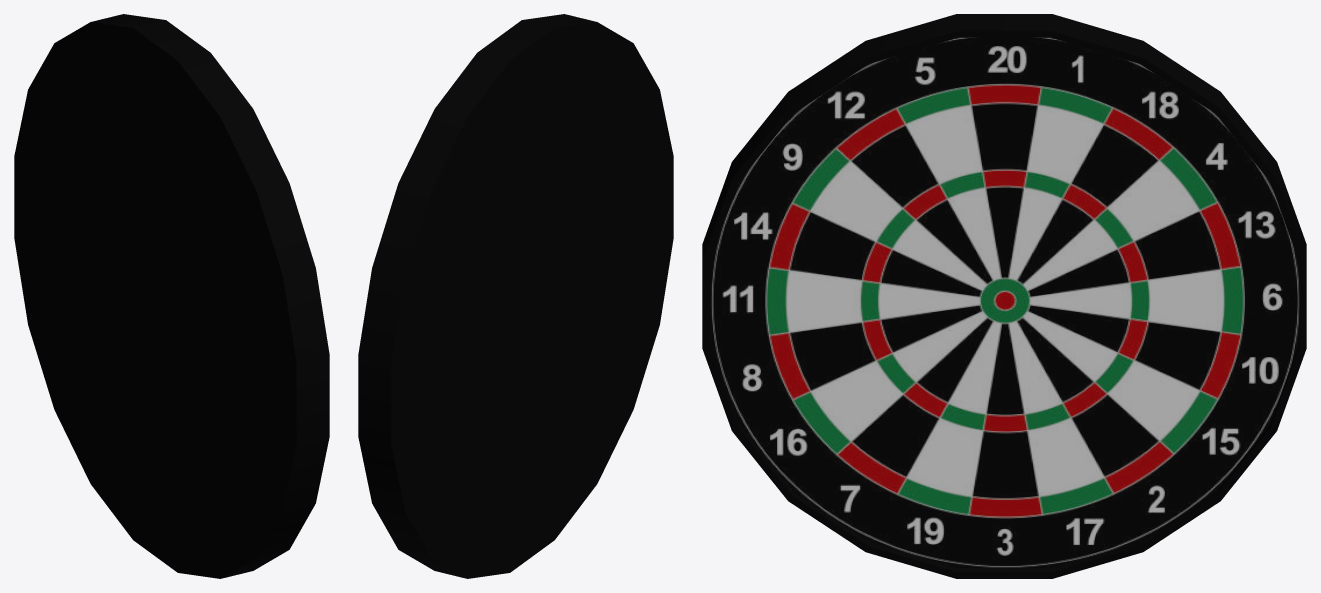
Rendered from darts.obj.
3 views of the same model, side by side, from view 1: azimuth 30°, elevation 25°; view 2: azimuth 150°, elevation 25°; view 3: azimuth 270°, elevation 25° (orthographic). The views are drawn at different scales.
Visible parts, largest first — view 1: darts; view 2: darts; view 3: darts.
Boxes of the visible parts, x1,y1,x2,y2 form: darts: (14, 14, 329, 578); darts: (358, 14, 673, 578); darts: (702, 14, 1306, 578).
Size of the model in its own units: 0.03 by 0.4445 by 0.4445.
2 materials, 1 textured.
